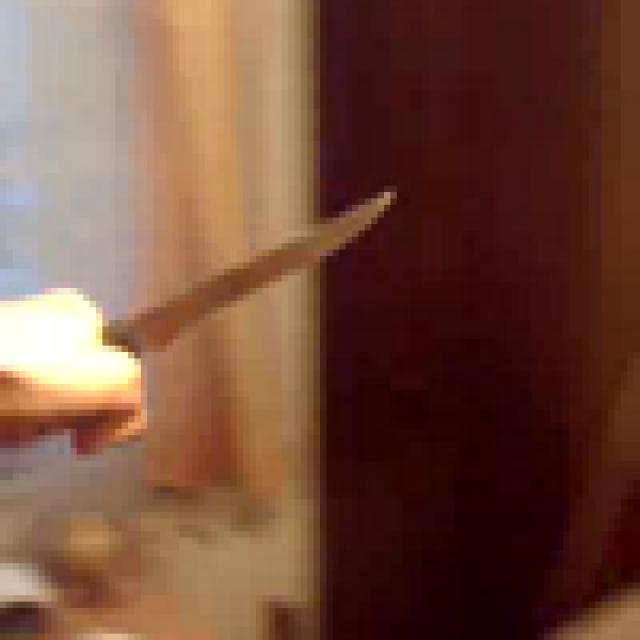weapon: (51, 128, 435, 397)
